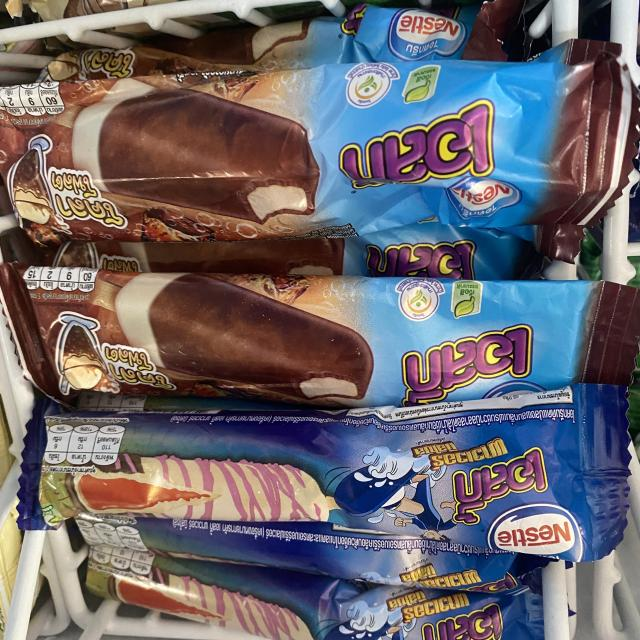plastik: (0, 40, 638, 244), (20, 384, 630, 561), (0, 262, 640, 406), (86, 545, 544, 640)
